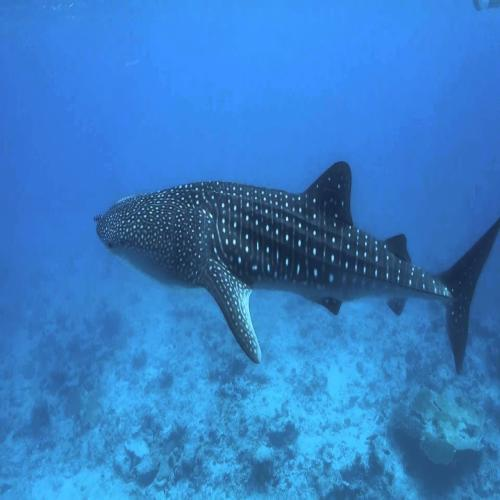shark-endangered: (92, 157, 500, 372)
